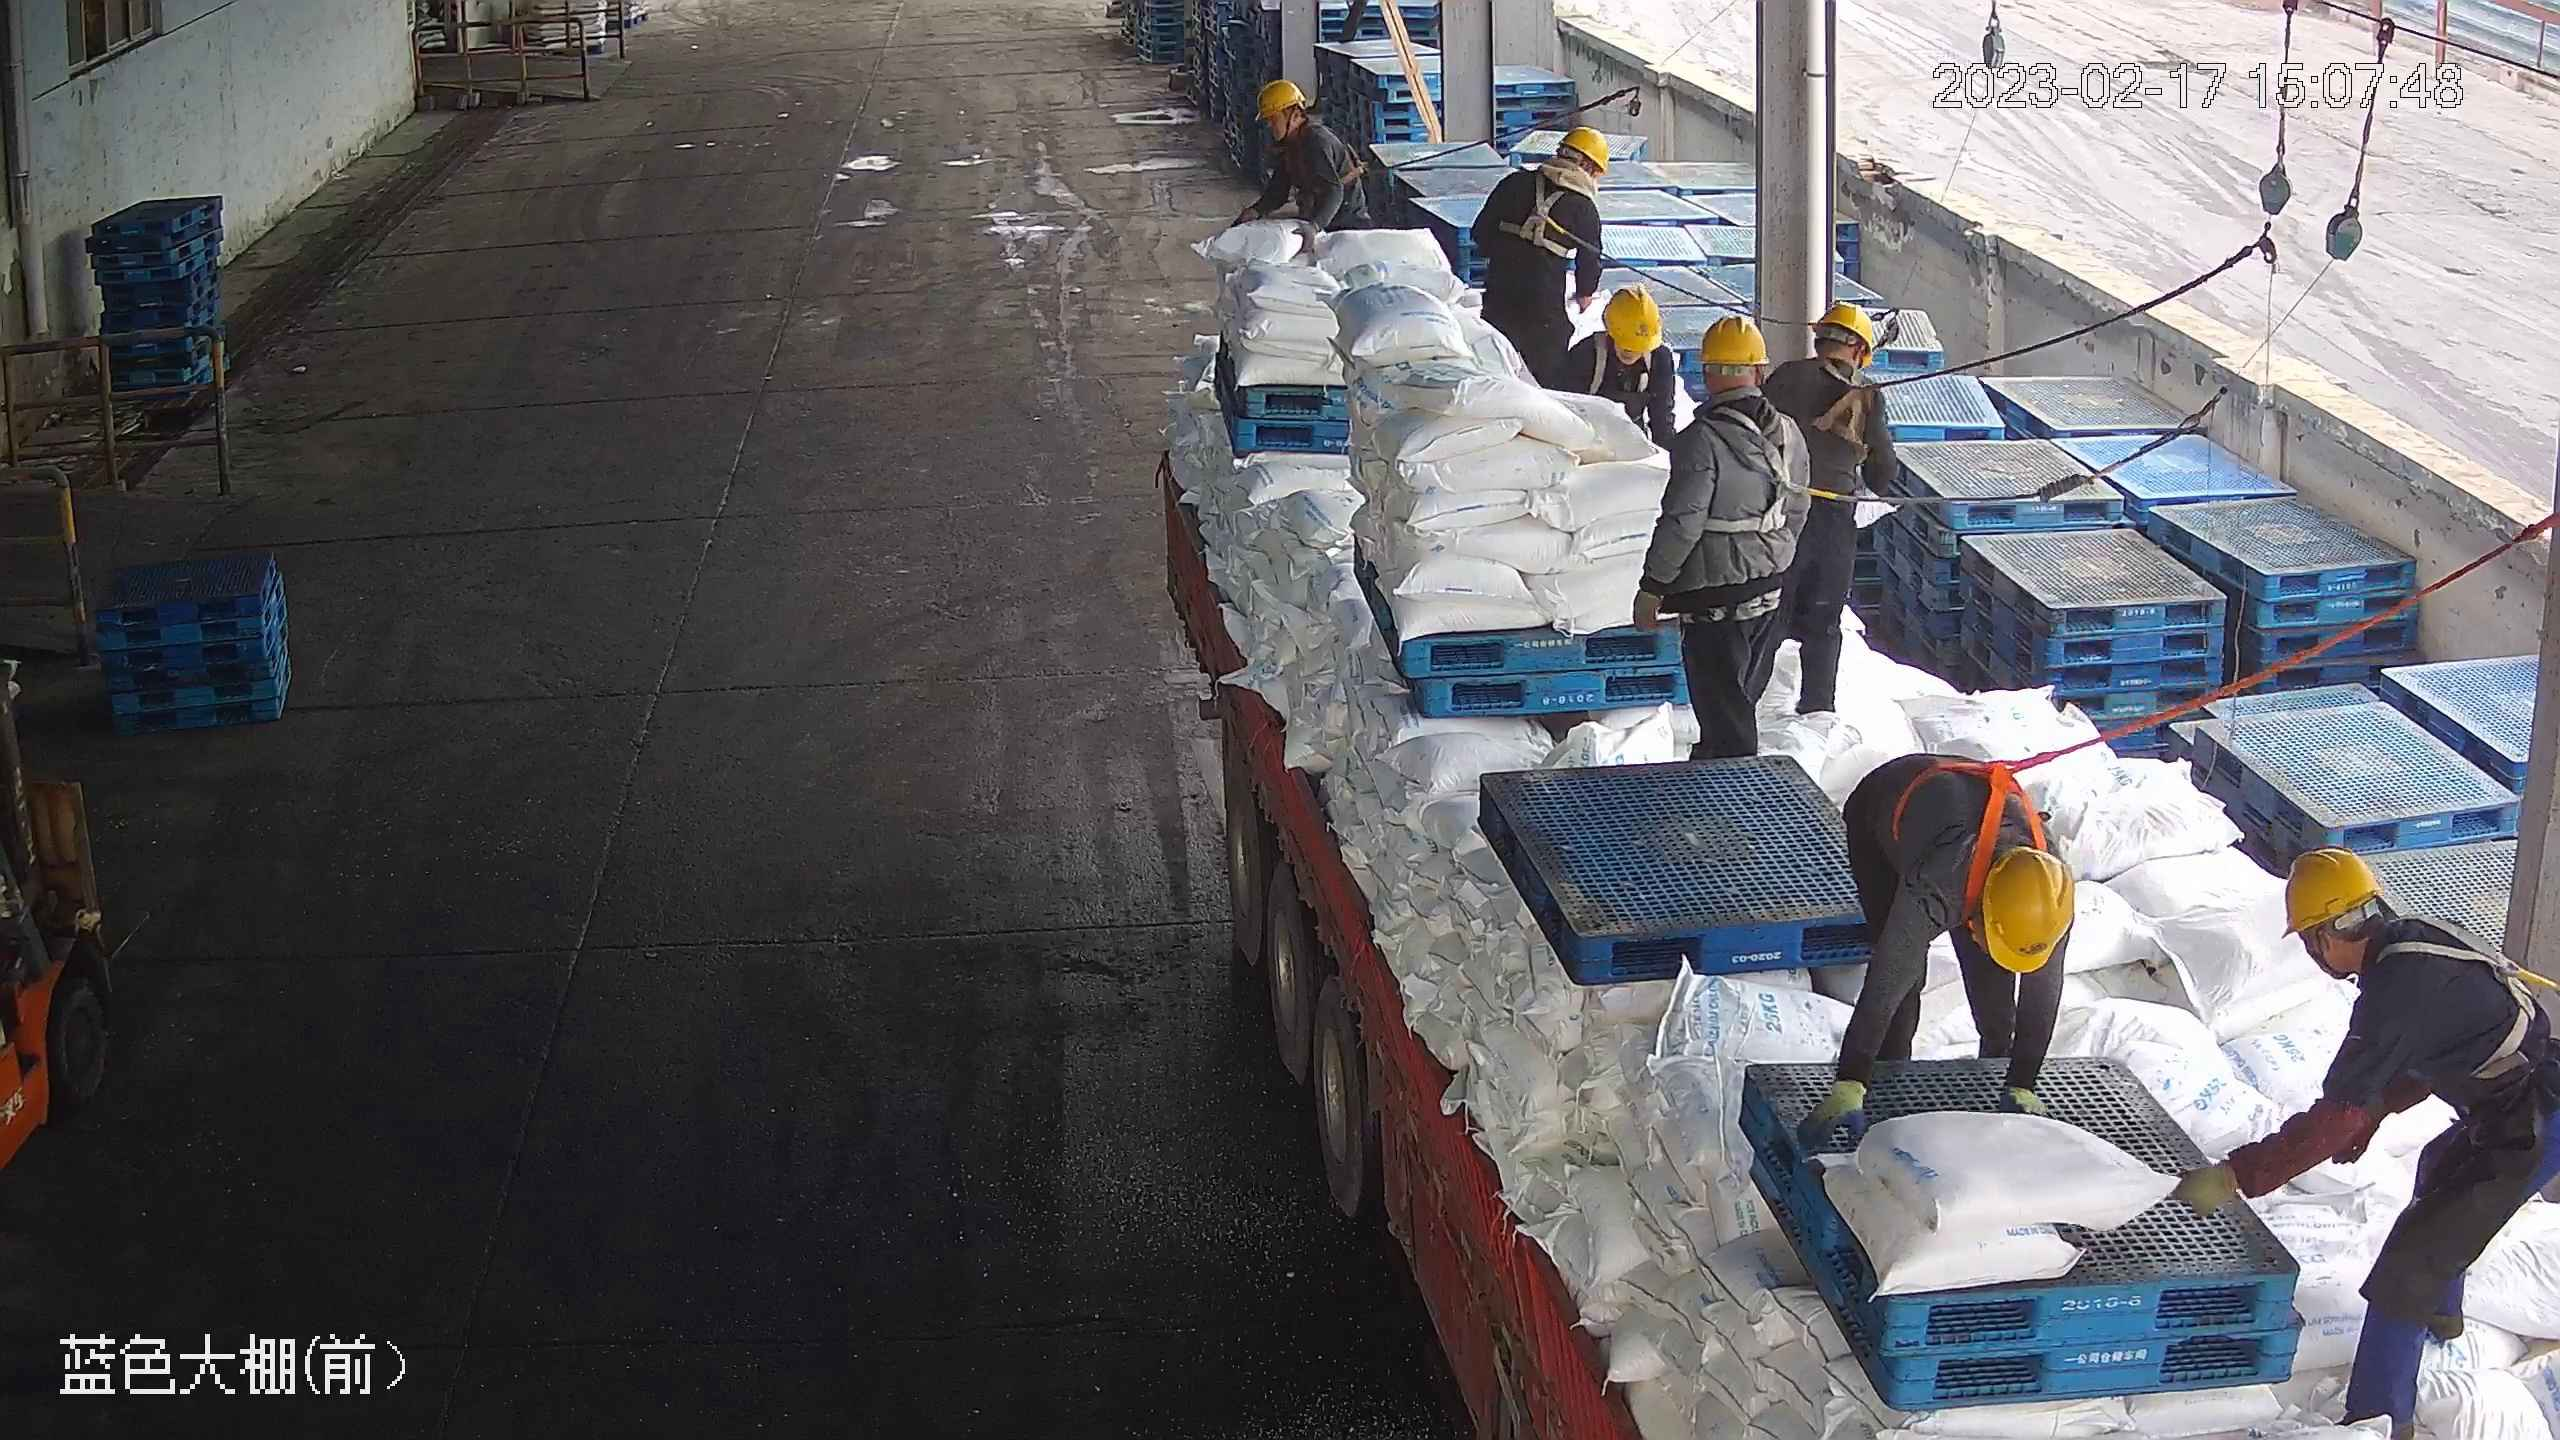head: (2283, 850, 2481, 1052), (1893, 776, 2073, 986), (1662, 318, 1808, 484), (1773, 305, 1890, 435), (1498, 128, 1611, 233), (1573, 288, 1673, 393), (1254, 81, 1351, 172)
people: (2173, 849, 2560, 1440), (1798, 750, 2081, 1142), (1632, 313, 1808, 771), (1767, 303, 1898, 718), (1473, 127, 1613, 374), (1235, 81, 1371, 257)
truck: (1149, 425, 2560, 1440)
